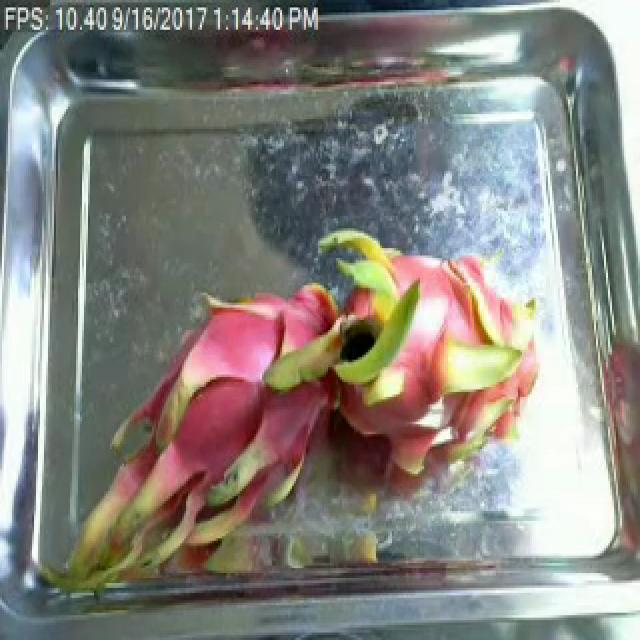Fruit: (274, 273, 352, 384), (428, 367, 514, 462)
